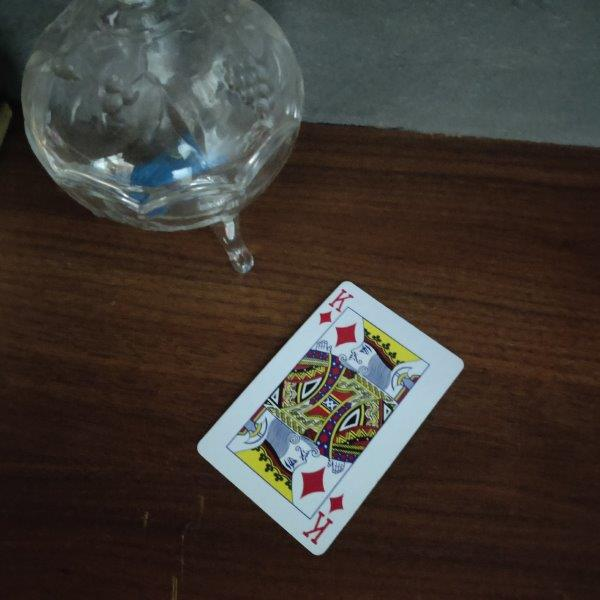King of Diamonds: (196, 280, 464, 556)
